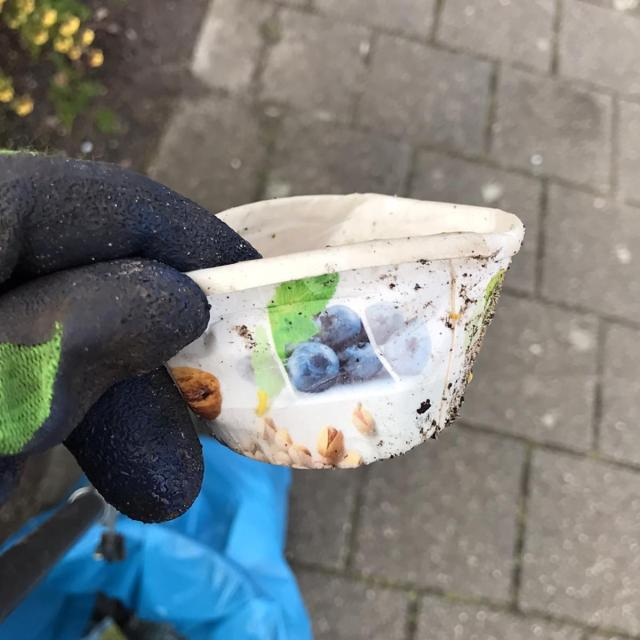Paper: (162, 188, 528, 472)
